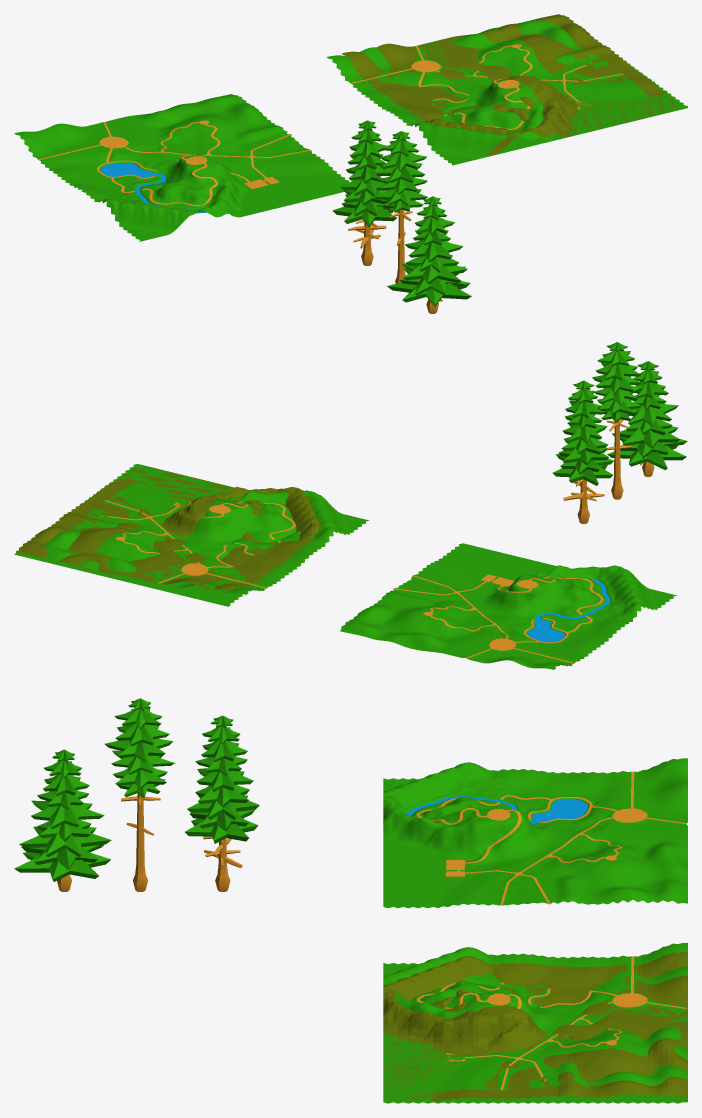
Rendered from World.fbx.
The picture shows the model from 3 angles, top to bottom: view 1: azimuth 30°, elevation 25°; view 2: azimuth 150°, elevation 25°; view 3: azimuth 270°, elevation 25°; orthographic projection. The views are drawn at different scales.
Parts seen in each view (by area): view 1: World, World.001, Plane.004, Tree 3, Tree 1, Tree 2, Plane.003, Water; view 2: World, World.001, Plane.004, Tree 1, Tree 3, Tree 2, Plane.003, Water; view 3: World, Plane.004, World.001, Tree 3, Tree 1, Tree 2, Plane.003, Water.
Boxes of the visible parts, x1,y1,x2,y2 form: World: (14, 94, 349, 241); World.001: (326, 20, 668, 165); Plane.004: (341, 14, 681, 161); Tree 3: (387, 196, 471, 313); Tree 1: (332, 120, 396, 265); Tree 2: (374, 131, 427, 283); Plane.003: (467, 39, 687, 160); Water: (100, 162, 206, 213); World: (339, 543, 676, 669); World.001: (32, 469, 369, 594); Plane.004: (17, 465, 349, 591); Tree 1: (552, 380, 613, 523); Tree 3: (607, 361, 687, 476); Tree 2: (592, 342, 643, 499); Plane.003: (14, 464, 351, 606); Water: (527, 579, 610, 642); World: (383, 758, 687, 908); Plane.004: (383, 951, 687, 1101); World.001: (383, 943, 687, 1092); Tree 3: (14, 749, 111, 891); Tree 1: (185, 715, 259, 891); Tree 2: (104, 698, 174, 891); Plane.003: (383, 973, 687, 1103); Water: (406, 796, 588, 824).
Size of the model in its own units: 10644 by 12163 by 3340.
